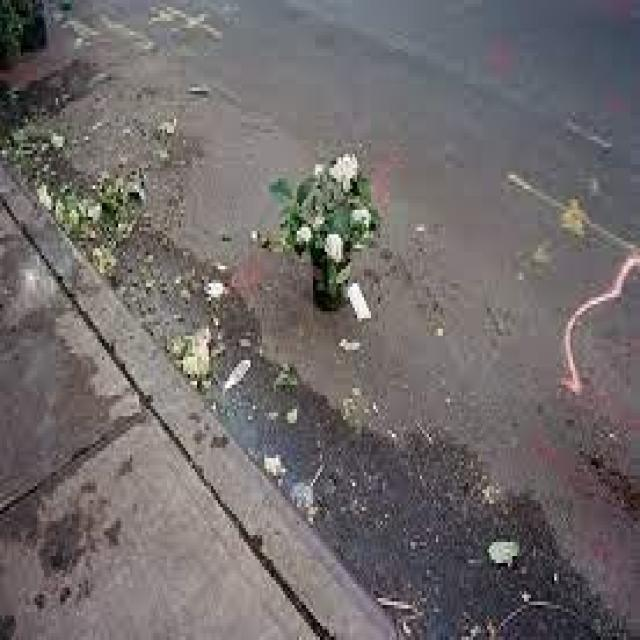curb: (22, 204, 389, 640)
